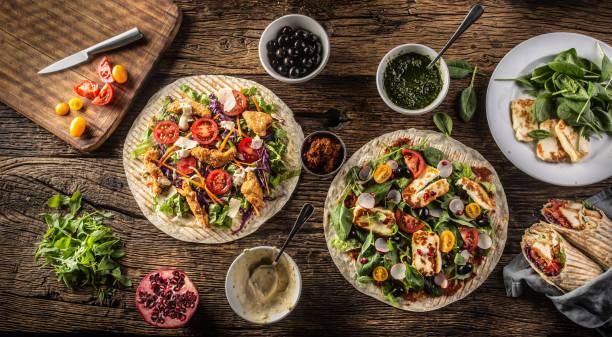Braised Crucian Carp: (324, 127, 508, 311), (123, 74, 299, 242), (483, 31, 610, 187)
